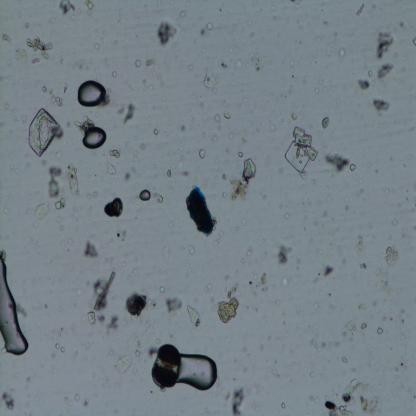Air bubble: (0, 258, 29, 356), (180, 352, 218, 392), (77, 79, 106, 107), (82, 126, 107, 150), (139, 190, 151, 201)
Background material: (324, 376, 381, 414), (152, 343, 180, 387), (230, 158, 257, 202), (93, 270, 115, 313), (214, 286, 238, 325), (25, 36, 54, 64), (122, 289, 149, 319), (375, 26, 396, 61), (322, 151, 355, 173), (45, 164, 62, 198), (156, 19, 178, 45), (372, 268, 393, 295), (65, 164, 81, 197), (101, 197, 124, 219), (381, 243, 399, 270), (354, 232, 366, 270), (312, 74, 337, 92), (202, 68, 219, 93), (116, 102, 136, 123), (230, 385, 244, 415), (185, 302, 201, 328), (82, 239, 99, 261), (341, 318, 357, 341), (371, 95, 391, 113), (43, 89, 63, 107), (114, 353, 131, 374), (164, 294, 182, 313), (308, 333, 324, 354), (375, 63, 394, 80), (276, 244, 292, 264), (72, 117, 95, 130), (0, 391, 15, 410), (240, 247, 255, 266), (112, 6, 127, 24), (34, 203, 50, 219), (58, 0, 76, 14), (116, 224, 128, 244), (254, 271, 269, 287), (250, 52, 261, 73), (106, 314, 119, 331), (322, 262, 334, 280), (73, 58, 89, 71), (78, 393, 91, 408), (356, 78, 372, 90), (65, 394, 82, 405), (156, 71, 167, 88), (354, 1, 365, 18), (200, 22, 213, 36), (54, 197, 67, 211), (86, 309, 96, 327), (160, 245, 172, 260), (239, 344, 251, 358), (179, 162, 191, 176), (52, 342, 66, 354), (106, 160, 117, 175), (250, 396, 260, 412), (288, 59, 296, 79), (265, 116, 276, 130), (399, 226, 410, 240), (250, 278, 258, 297), (270, 365, 280, 379), (176, 118, 186, 132), (294, 254, 302, 271), (155, 0, 164, 15), (320, 115, 329, 130), (122, 170, 133, 182), (357, 300, 368, 312), (86, 0, 94, 16), (186, 243, 195, 257), (63, 235, 74, 246), (375, 324, 385, 336), (311, 270, 321, 282), (203, 283, 213, 295), (109, 149, 121, 159), (132, 147, 140, 162), (90, 40, 103, 49), (300, 200, 308, 214), (382, 186, 392, 197), (16, 49, 26, 60), (325, 302, 336, 312), (97, 312, 106, 324), (130, 267, 139, 279), (72, 289, 84, 298), (60, 81, 70, 91), (283, 209, 293, 219), (322, 17, 331, 28), (55, 328, 66, 337), (2, 204, 11, 215), (198, 148, 207, 159), (280, 277, 288, 289), (166, 168, 174, 180), (5, 56, 13, 68), (86, 191, 98, 199), (326, 43, 333, 56), (320, 339, 329, 349), (1, 34, 12, 42), (246, 384, 254, 395), (301, 74, 308, 86), (389, 217, 398, 226), (339, 256, 348, 265), (247, 30, 256, 39), (338, 49, 346, 59), (156, 194, 164, 204), (235, 60, 243, 70), (158, 284, 166, 294), (152, 127, 160, 136), (282, 332, 291, 340), (290, 112, 299, 120), (110, 38, 119, 46), (313, 300, 322, 308), (134, 348, 140, 360), (369, 298, 378, 306), (146, 82, 154, 91), (242, 300, 250, 309), (110, 70, 118, 79), (355, 190, 365, 197), (214, 237, 221, 247), (155, 336, 162, 346), (223, 146, 230, 156), (251, 302, 258, 312), (242, 365, 248, 376), (290, 0, 301, 6), (215, 113, 221, 124), (146, 58, 154, 66), (224, 272, 232, 280), (220, 62, 228, 70), (264, 335, 272, 343), (231, 23, 238, 32), (135, 59, 142, 68), (167, 220, 174, 229), (398, 307, 405, 316), (228, 45, 235, 54), (188, 61, 194, 71), (33, 218, 39, 228), (66, 119, 72, 129), (255, 380, 259, 395), (58, 226, 65, 234), (301, 170, 308, 178), (40, 160, 47, 168), (221, 190, 228, 198), (223, 112, 231, 119), (54, 150, 62, 157), (203, 405, 210, 413), (397, 361, 405, 368), (4, 103, 10, 112), (212, 136, 218, 145), (412, 35, 416, 48), (261, 249, 268, 256), (236, 151, 243, 158), (20, 115, 26, 123), (199, 100, 205, 108), (404, 194, 410, 202), (260, 344, 266, 352), (234, 269, 240, 277), (168, 332, 174, 340), (191, 94, 199, 100), (311, 395, 319, 401), (13, 166, 19, 174), (25, 22, 31, 30), (180, 10, 186, 18), (340, 356, 347, 362), (218, 230, 224, 237), (271, 15, 278, 21), (261, 236, 266, 244), (122, 260, 127, 268), (51, 17, 56, 25), (18, 10, 22, 19), (360, 323, 366, 329), (241, 136, 247, 142), (229, 134, 235, 140), (310, 221, 317, 226), (60, 57, 65, 64), (310, 177, 315, 184), (312, 370, 316, 378), (275, 298, 279, 306), (281, 402, 285, 410), (322, 211, 328, 216), (389, 316, 394, 322), (374, 169, 379, 175), (282, 344, 288, 349), (203, 132, 208, 138), (151, 104, 156, 110), (297, 40, 302, 46), (249, 19, 252, 28), (262, 287, 267, 292), (272, 6, 276, 12), (223, 175, 227, 181), (345, 206, 350, 210), (244, 97, 248, 102), (36, 5, 40, 10), (211, 298, 215, 303), (142, 144, 145, 150), (412, 394, 416, 398), (328, 292, 331, 297), (304, 227, 307, 231), (402, 318, 404, 323), (284, 320, 286, 324)
Fragment: (186, 184, 216, 237)
